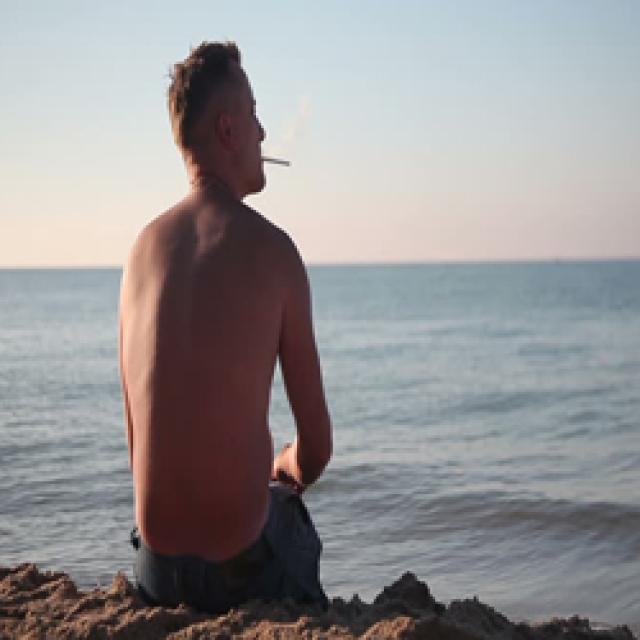Smooking: (256, 148, 296, 173)
